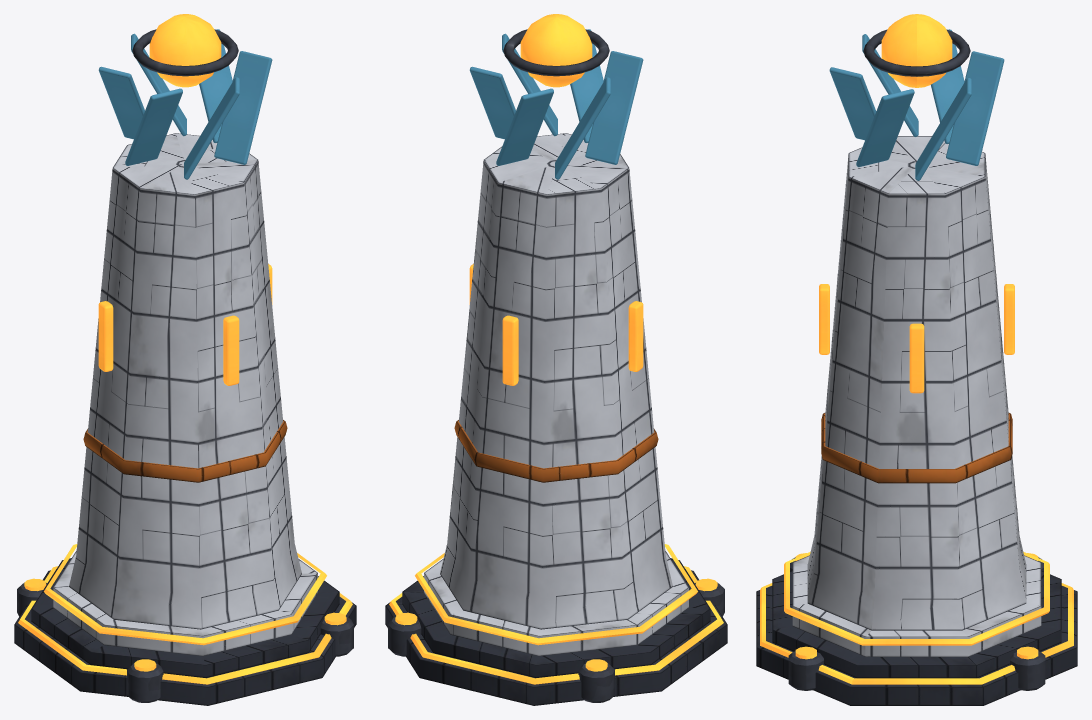
Rendered from sf_sunlance.glb.
3 views of the same model, side by side, from view 1: azimuth 30°, elevation 25°; view 2: azimuth 150°, elevation 25°; view 3: azimuth 270°, elevation 25° (orthographic).
Parts seen in each view (by area): view 1: Base, Petals, Turret; view 2: Base, Petals, Turret; view 3: Base, Petals, Turret.
Boxes of the visible parts, x1,y1,x2,y2 form: Base: [14, 133, 356, 705]; Petals: [98, 29, 272, 179]; Turret: [132, 14, 238, 87]; Base: [385, 133, 727, 705]; Petals: [469, 29, 643, 179]; Turret: [503, 14, 609, 87]; Base: [756, 136, 1077, 705]; Petals: [829, 29, 1004, 180]; Turret: [863, 14, 970, 87].
Bounding box in the file's own units: 0.8684 × 1.85 × 0.8684.
6 materials, 6 textured.
